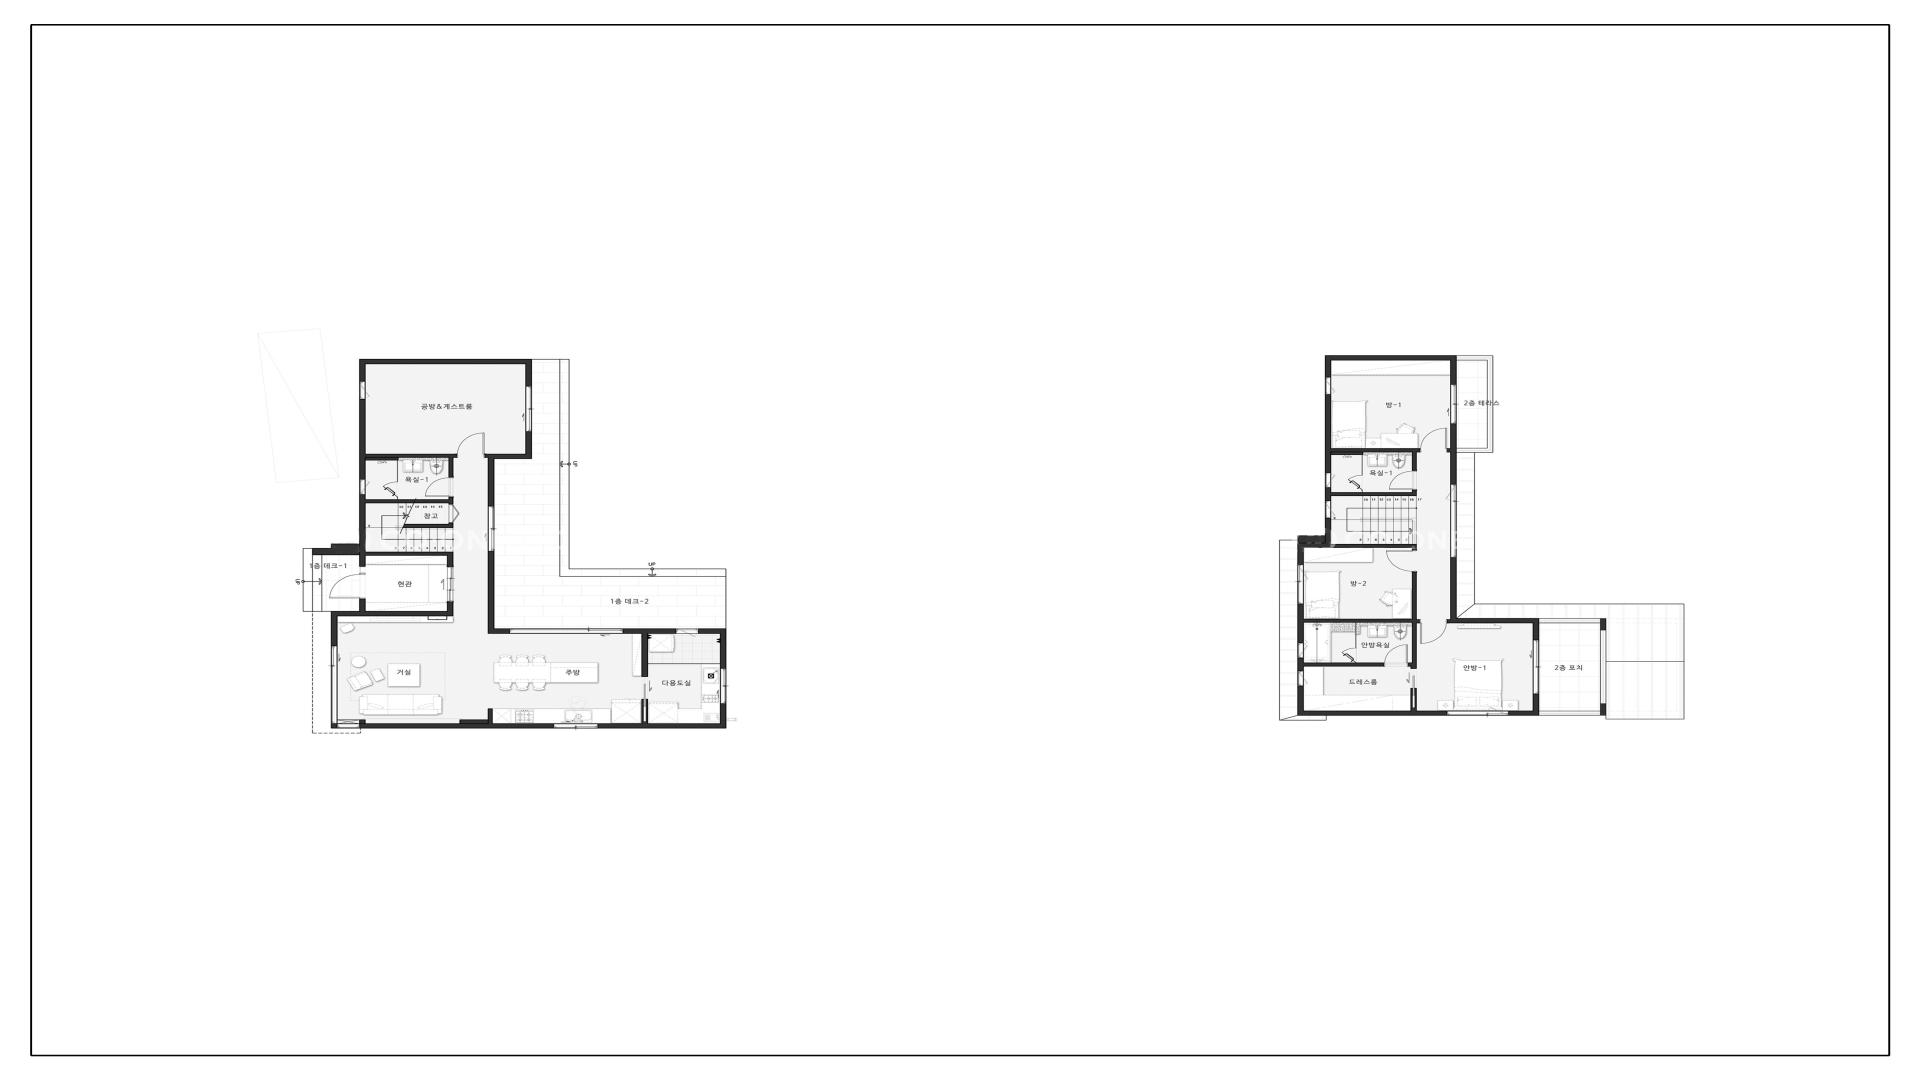door: (329, 573, 366, 599), (456, 433, 486, 458), (1419, 619, 1447, 644), (1386, 550, 1417, 572), (1420, 428, 1447, 452), (425, 477, 454, 497), (1389, 470, 1417, 490), (1384, 644, 1408, 666), (642, 677, 648, 723), (1411, 668, 1417, 711), (447, 566, 454, 602), (382, 482, 398, 497), (1342, 648, 1357, 663), (1348, 475, 1363, 490), (449, 504, 460, 523)
wall: (1450, 558, 1539, 623), (331, 599, 454, 646), (1297, 686, 1447, 716), (359, 359, 532, 381), (359, 552, 454, 573), (488, 454, 525, 506), (488, 552, 510, 634), (1297, 518, 1331, 564), (699, 628, 726, 668), (360, 723, 553, 728), (1408, 572, 1417, 669), (598, 723, 720, 729), (1509, 694, 1539, 716), (1331, 355, 1457, 360), (366, 497, 453, 504), (359, 399, 366, 479), (312, 544, 359, 555), (1331, 490, 1417, 496), (1331, 544, 1417, 550), (459, 709, 493, 723), (1325, 395, 1331, 472), (1304, 619, 1412, 623), (1450, 424, 1457, 484), (1304, 662, 1384, 667), (359, 495, 366, 552), (366, 454, 456, 458), (1331, 448, 1420, 452), (623, 628, 676, 634), (1297, 604, 1304, 643), (642, 634, 648, 677), (402, 523, 453, 528), (525, 431, 532, 459), (720, 704, 727, 729), (1450, 361, 1457, 384), (525, 364, 532, 386), (1325, 355, 1331, 377), (1533, 623, 1539, 640), (449, 458, 454, 477), (1297, 658, 1304, 671), (1412, 452, 1417, 470), (1325, 488, 1331, 500), (1600, 618, 1606, 630), (1600, 703, 1606, 715), (360, 719, 366, 724), (331, 724, 337, 728), (397, 458, 398, 482), (1362, 452, 1363, 475), (1447, 448, 1451, 452), (1417, 619, 1419, 623), (1448, 619, 1450, 623), (1362, 490, 1363, 492), (397, 497, 398, 499), (1356, 622, 1356, 648)
window: (1445, 484, 1457, 558), (510, 628, 623, 634), (1447, 707, 1509, 716), (331, 646, 338, 724), (1298, 564, 1309, 604), (1600, 630, 1606, 703), (1533, 640, 1539, 694), (488, 506, 495, 552), (525, 386, 532, 431), (1539, 618, 1600, 623), (1450, 384, 1457, 424), (1539, 711, 1600, 715), (553, 723, 598, 728), (720, 668, 726, 704), (676, 628, 699, 637), (1325, 377, 1336, 395), (1325, 500, 1336, 518), (359, 381, 370, 399), (1325, 472, 1336, 488), (359, 479, 370, 495), (1297, 643, 1308, 658), (1297, 671, 1308, 686), (337, 719, 360, 724), (337, 724, 360, 728)
